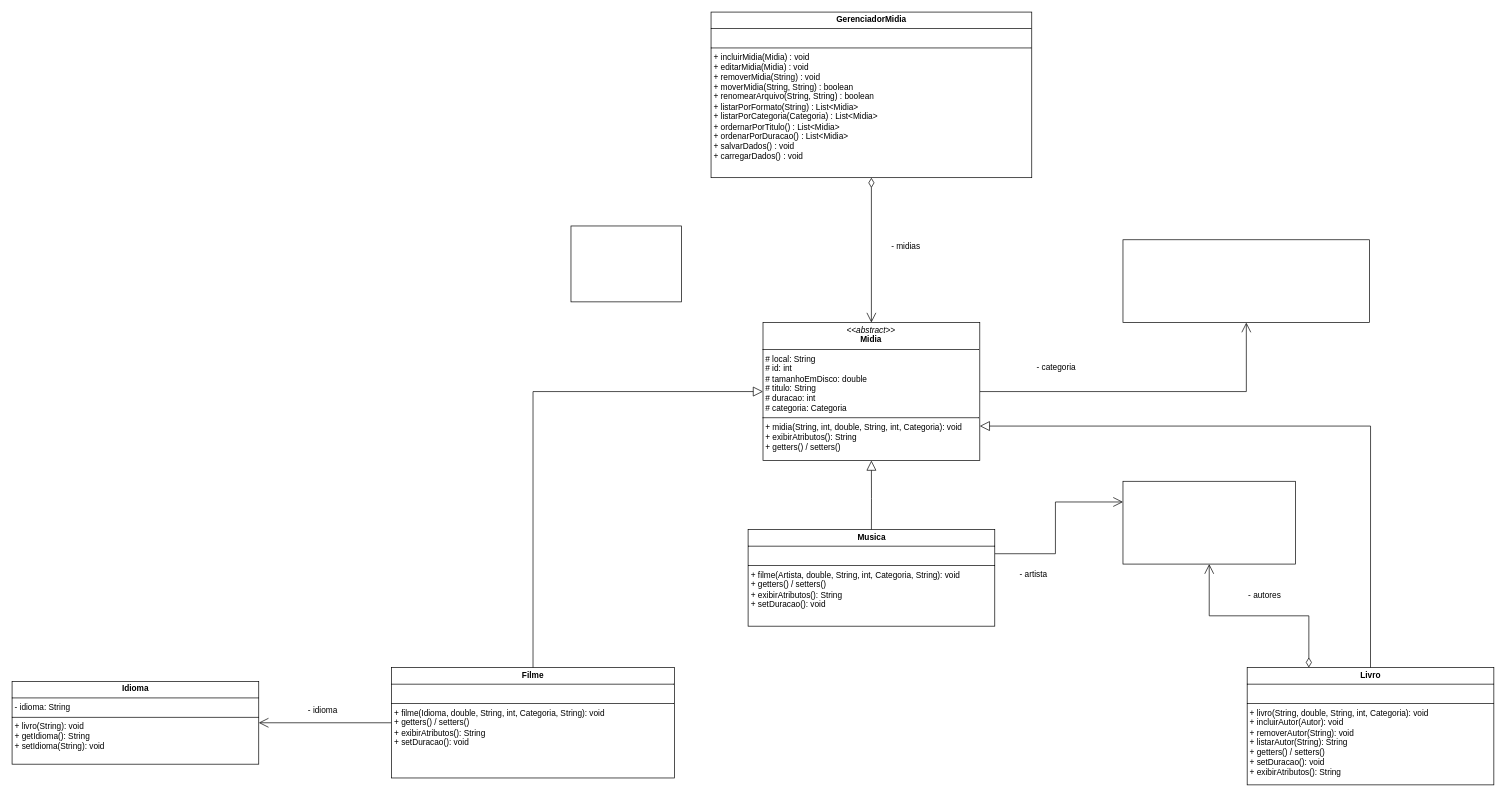
The diagram is 1506 pixels wide and 797 high, and some of its shapes have lost their labels. The shapes that lost their labels are listed below. From the top down, each one's centre as x and y in pixels, then its label:
At pixel 625 263: "GeradorId - id: int + GeradorId(): void + getId(): int + setid(int): void".
At pixel 1246 281: "Categoria - categoria: String + categoria(String): void + getters() / setters()".
At pixel 1208 522: "Pessoa - nome: String + Pessoa(String): void + getters() / setters()".
